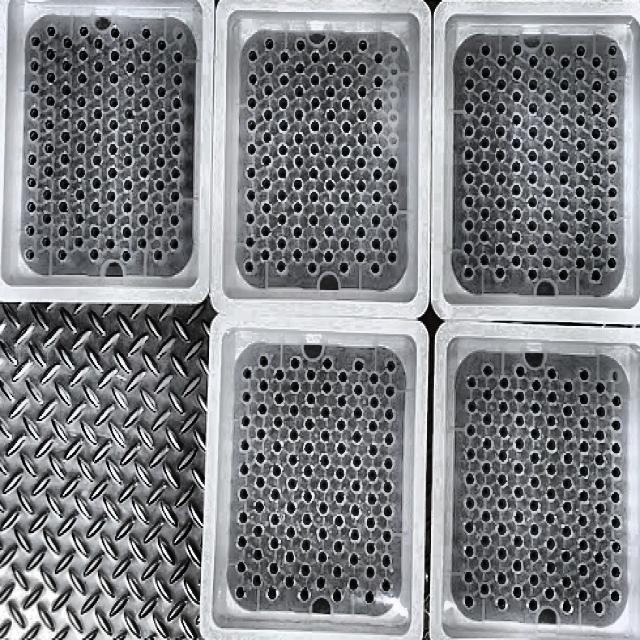vial: (284, 549, 296, 563), (464, 266, 475, 280), (611, 491, 622, 505), (269, 512, 279, 527), (527, 148, 537, 163), (546, 390, 558, 402), (561, 575, 573, 587), (170, 167, 181, 180), (388, 203, 399, 216), (299, 588, 310, 601), (512, 67, 523, 80), (527, 173, 538, 186), (529, 427, 540, 440), (123, 179, 133, 193), (294, 84, 304, 98), (357, 133, 367, 147), (308, 262, 318, 276), (320, 478, 330, 492), (252, 547, 262, 561), (333, 589, 343, 603), (560, 125, 570, 139), (464, 242, 474, 256), (612, 516, 622, 530), (464, 520, 474, 534), (496, 572, 506, 586), (351, 527, 360, 542), (562, 499, 571, 514), (170, 192, 182, 203), (339, 262, 350, 274), (369, 372, 380, 384), (559, 54, 570, 66), (574, 210, 585, 222), (482, 364, 493, 376), (595, 382, 606, 394), (515, 366, 526, 378), (466, 401, 477, 413), (578, 564, 589, 576), (497, 547, 508, 559), (562, 601, 573, 613), (108, 143, 118, 156), (27, 154, 37, 167), (25, 225, 35, 238), (264, 38, 274, 51), (341, 98, 351, 111), (358, 108, 368, 121), (372, 121, 382, 134), (278, 144, 288, 157), (342, 145, 352, 158), (388, 251, 398, 264), (386, 359, 396, 372), (352, 383, 362, 396), (384, 406, 394, 419), (320, 430, 330, 443), (318, 501, 328, 514), (335, 514, 345, 527), (254, 524, 264, 537), (317, 550, 327, 563), (512, 112, 522, 125), (608, 139, 618, 152), (591, 174, 601, 187), (591, 150, 601, 163), (495, 150, 505, 163), (543, 185, 553, 198), (527, 244, 537, 257), (547, 439, 557, 452), (496, 523, 506, 536), (464, 545, 474, 558), (528, 598, 538, 611), (343, 75, 352, 89), (262, 177, 271, 191), (352, 504, 361, 518), (545, 90, 554, 104), (512, 208, 521, 222), (547, 414, 556, 428), (596, 405, 605, 419), (532, 378, 541, 392), (482, 412, 491, 426), (612, 466, 621, 480), (272, 442, 283, 453), (254, 501, 265, 512), (351, 481, 362, 492), (467, 377, 478, 388), (62, 36, 72, 48), (78, 50, 88, 62), (93, 61, 103, 73), (78, 25, 88, 37), (125, 62, 135, 74), (156, 85, 166, 97), (30, 36, 40, 48), (77, 72, 87, 84), (93, 84, 103, 96), (109, 96, 119, 108), (77, 96, 87, 108), (60, 109, 72, 119), (28, 129, 38, 141), (140, 121, 150, 133), (43, 166, 53, 178), (139, 214, 149, 226), (122, 226, 132, 238), (90, 226, 100, 238), (41, 236, 51, 248), (24, 246, 34, 258), (153, 249, 163, 261), (295, 64, 305, 76), (247, 97, 257, 109), (278, 120, 288, 132), (308, 167, 318, 179), (277, 190, 287, 202), (277, 261, 287, 273), (324, 250, 334, 262), (372, 262, 382, 274), (306, 369, 316, 381), (288, 454, 298, 466), (240, 416, 250, 428), (271, 465, 281, 477), (240, 464, 250, 476), (270, 488, 280, 500), (238, 488, 248, 500), (304, 490, 314, 502), (318, 528, 328, 540), (334, 540, 344, 552), (349, 553, 359, 565), (268, 587, 278, 599), (284, 576, 294, 588), (316, 577, 326, 589), (333, 564, 343, 576), (608, 91, 618, 103), (466, 78, 476, 90), (496, 102, 506, 114), (575, 186, 585, 198), (512, 161, 522, 173), (496, 196, 506, 208), (527, 219, 537, 231), (480, 232, 490, 244), (558, 268, 568, 280), (607, 258, 617, 270), (515, 392, 525, 404), (612, 396, 622, 408), (580, 369, 590, 381), (563, 404, 573, 416), (548, 367, 558, 379), (498, 450, 508, 462), (595, 502, 605, 514), (480, 510, 490, 522), (594, 551, 604, 563), (611, 540, 621, 552), (546, 561, 556, 573), (513, 586, 523, 598), (610, 590, 620, 602), (480, 582, 490, 594), (464, 594, 474, 606), (173, 73, 182, 86), (62, 60, 71, 73), (61, 83, 70, 96), (107, 190, 116, 203), (59, 249, 68, 262), (280, 51, 289, 64), (374, 75, 383, 88), (327, 63, 336, 76), (357, 85, 366, 98), (326, 108, 335, 121), (263, 131, 272, 144), (261, 203, 270, 216), (372, 214, 381, 227), (389, 180, 398, 193), (337, 419, 346, 432), (287, 477, 296, 490), (383, 480, 392, 493), (367, 517, 376, 530), (303, 512, 312, 525), (239, 511, 248, 524), (529, 78, 538, 91), (543, 209, 552, 222), (511, 256, 520, 269), (481, 255, 490, 268), (496, 267, 505, 280), (564, 380, 573, 393), (531, 476, 540, 489), (594, 478, 603, 491), (497, 597, 506, 610), (514, 534, 522, 548), (172, 98, 182, 109), (173, 53, 183, 64), (46, 73, 56, 84), (91, 178, 101, 189), (156, 111, 166, 122), (170, 214, 180, 225), (121, 250, 131, 261), (387, 228, 398, 238), (336, 468, 346, 479), (240, 440, 250, 451), (270, 538, 280, 549), (237, 561, 247, 572), (252, 575, 262, 586), (480, 45, 490, 56), (592, 81, 602, 92), (544, 67, 554, 78), (480, 68, 490, 79), (465, 150, 475, 161), (496, 173, 506, 184), (512, 185, 522, 196), (590, 269, 600, 280), (514, 416, 524, 427), (595, 454, 605, 465), (545, 465, 555, 476), (514, 511, 524, 522), (512, 560, 522, 571), (480, 559, 490, 570), (544, 588, 554, 599), (126, 85, 135, 97), (141, 96, 150, 108), (95, 37, 104, 49), (141, 73, 150, 85), (46, 48, 55, 60), (30, 60, 39, 72), (92, 131, 101, 143), (125, 131, 134, 143), (76, 166, 85, 178), (93, 154, 102, 166), (296, 39, 305, 51), (248, 50, 257, 62), (310, 96, 319, 108), (278, 97, 287, 109), (310, 120, 319, 132), (342, 121, 351, 133), (325, 133, 334, 145), (294, 133, 303, 145), (357, 157, 366, 169), (247, 143, 256, 155), (246, 166, 255, 178), (278, 214, 287, 226), (293, 249, 302, 261), (324, 226, 333, 238), (356, 226, 365, 238), (371, 238, 380, 250), (369, 420, 378, 432), (385, 433, 394, 445), (353, 431, 362, 443), (274, 416, 283, 428), (338, 442, 347, 454), (353, 456, 362, 468), (287, 500, 296, 512), (335, 490, 344, 502), (367, 492, 376, 504), (383, 506, 392, 518), (238, 536, 247, 548), (302, 539, 311, 551), (366, 542, 375, 554), (498, 55, 507, 67), (609, 45, 618, 57), (560, 104, 569, 116), (513, 90, 522, 102), (608, 116, 617, 128), (559, 174, 568, 186), (480, 162, 489, 174), (543, 256, 552, 268), (559, 246, 568, 258), (591, 246, 600, 258), (499, 377, 508, 389), (563, 428, 572, 440), (530, 452, 539, 464), (563, 452, 572, 464), (482, 437, 491, 449), (579, 489, 588, 501), (595, 602, 604, 614), (464, 571, 473, 583), (30, 107, 38, 120), (107, 213, 115, 226), (90, 249, 98, 262), (360, 39, 368, 52), (265, 62, 273, 75), (264, 85, 272, 98), (326, 179, 334, 192), (340, 239, 348, 252), (339, 370, 347, 383), (242, 391, 250, 404), (354, 407, 362, 420), (530, 54, 538, 67), (608, 208, 616, 221), (609, 162, 617, 175), (580, 392, 588, 405), (546, 512, 554, 525), (46, 26, 56, 36), (386, 386, 396, 396), (258, 429, 268, 439), (236, 587, 246, 597), (544, 44, 554, 54), (576, 46, 586, 56), (560, 80, 570, 90), (528, 127, 538, 137), (481, 116, 491, 126), (559, 198, 569, 208), (510, 232, 520, 242), (464, 220, 474, 230), (611, 442, 621, 452), (578, 541, 588, 551), (109, 73, 118, 84), (110, 50, 119, 61), (61, 131, 70, 142), (108, 167, 117, 178), (140, 144, 149, 155), (172, 144, 181, 155), (27, 177, 36, 188), (123, 202, 132, 213), (169, 239, 178, 250), (27, 202, 36, 213), (263, 109, 272, 120), (356, 180, 365, 191), (293, 226, 302, 237), (340, 215, 349, 226), (246, 236, 255, 247), (261, 249, 270, 260), (259, 356, 268, 367), (275, 369, 284, 380), (371, 397, 380, 408), (256, 477, 265, 488), (287, 527, 296, 538), (365, 591, 374, 602), (382, 555, 391, 566), (381, 580, 390, 591), (513, 43, 522, 54), (576, 114, 585, 125), (497, 127, 506, 138), (592, 198, 601, 209), (575, 162, 584, 173), (528, 197, 537, 208), (559, 222, 568, 233), (496, 221, 505, 232), (531, 402, 540, 413), (612, 420, 621, 431), (483, 390, 492, 401), (514, 439, 523, 450), (466, 425, 475, 436), (514, 462, 523, 473), (562, 479, 571, 490), (579, 466, 588, 477), (595, 527, 604, 538), (530, 500, 539, 511), (530, 524, 539, 535), (481, 535, 490, 546), (578, 590, 587, 601), (595, 577, 604, 588), (142, 52, 150, 64), (111, 26, 119, 38), (31, 83, 39, 95), (45, 143, 53, 155), (60, 154, 68, 166), (123, 156, 131, 168), (172, 122, 180, 134), (60, 178, 68, 190), (76, 190, 84, 202), (91, 202, 99, 214), (138, 238, 146, 250), (312, 51, 320, 63), (343, 51, 351, 63), (326, 86, 334, 98), (280, 74, 288, 86), (295, 109, 303, 121), (310, 144, 318, 156), (294, 156, 302, 168), (341, 167, 349, 179), (388, 157, 396, 169), (278, 167, 286, 179), (326, 203, 334, 215), (372, 192, 380, 204), (262, 225, 270, 237), (278, 237, 286, 249), (309, 237, 317, 249), (306, 394, 314, 406), (290, 405, 298, 417), (338, 395, 346, 407), (290, 430, 298, 442), (320, 454, 328, 466), (369, 445, 377, 457), (385, 458, 393, 470), (368, 470, 376, 482), (256, 451, 264, 463), (383, 530, 391, 542), (350, 577, 358, 589), (592, 55, 600, 67), (577, 140, 585, 152), (592, 128, 600, 140), (465, 102, 473, 114), (513, 138, 521, 150), (560, 150, 568, 162), (481, 137, 489, 149), (576, 233, 584, 245), (544, 232, 552, 244), (481, 208, 489, 220), (496, 244, 504, 256), (529, 268, 537, 280), (575, 256, 583, 268), (580, 440, 588, 452), (500, 400, 508, 412), (498, 474, 506, 486), (563, 525, 571, 537), (466, 474, 474, 486), (612, 566, 620, 578), (530, 573, 538, 585), (310, 190, 317, 203), (43, 190, 52, 200), (42, 214, 51, 224), (309, 215, 318, 225), (356, 252, 365, 262), (355, 361, 364, 371), (323, 384, 332, 394), (301, 565, 310, 575), (608, 69, 618, 78), (576, 68, 585, 78), (596, 431, 605, 441), (580, 418, 589, 428), (546, 490, 555, 500), (579, 516, 588, 526), (514, 487, 523, 497), (498, 499, 507, 509), (465, 498, 474, 508), (158, 40, 166, 51), (78, 120, 86, 131), (94, 108, 102, 119), (140, 192, 148, 203), (75, 236, 83, 247), (328, 39, 336, 50), (374, 53, 382, 64), (358, 64, 366, 75), (375, 98, 383, 109), (249, 74, 257, 85), (373, 146, 381, 157), (262, 154, 270, 165), (294, 179, 302, 190), (357, 203, 365, 214), (245, 262, 253, 273), (323, 358, 331, 369), (243, 368, 251, 379), (306, 419, 314, 430), (306, 442, 314, 453), (304, 465, 312, 476), (576, 92, 584, 103), (592, 104, 600, 115), (497, 80, 505, 91), (529, 103, 537, 114), (544, 163, 552, 174), (608, 187, 616, 198), (465, 173, 473, 184), (481, 185, 489, 196), (465, 196, 473, 207), (499, 428, 507, 439), (466, 449, 474, 460), (482, 487, 490, 498), (530, 549, 538, 560), (157, 62, 164, 74), (367, 566, 374, 578), (126, 39, 134, 49), (110, 120, 118, 130), (126, 109, 134, 119), (157, 134, 165, 144), (59, 202, 67, 212), (75, 213, 83, 223), (154, 226, 162, 236), (59, 226, 67, 236), (311, 74, 319, 84), (248, 120, 256, 130), (326, 156, 334, 166), (373, 168, 381, 178), (294, 202, 302, 212), (290, 358, 298, 368), (260, 380, 268, 390), (257, 404, 265, 414), (270, 563, 278, 573), (466, 56, 474, 66), (546, 138, 554, 148), (544, 114, 552, 124), (466, 126, 474, 136), (592, 222, 600, 232), (608, 234, 616, 244), (482, 462, 490, 472), (547, 538, 555, 548), (562, 550, 570, 560), (140, 168, 147, 179), (107, 238, 114, 249), (247, 189, 254, 200), (276, 394, 283, 405), (322, 407, 329, 418), (482, 90, 489, 101), (142, 29, 150, 38), (156, 181, 164, 190), (246, 215, 254, 224), (78, 143, 85, 153), (157, 157, 164, 167), (156, 203, 163, 213), (341, 191, 348, 201), (292, 382, 299, 392), (46, 120, 54, 128), (47, 97, 54, 106)
